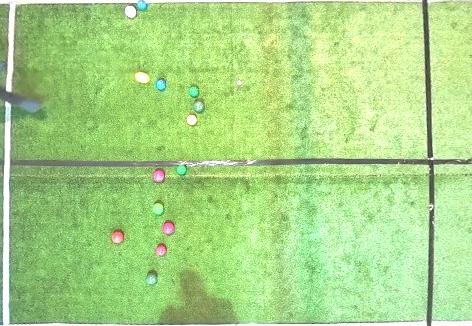blue: (136, 0, 149, 12), (155, 79, 167, 91)
green: (193, 100, 205, 113), (152, 202, 164, 215), (146, 273, 157, 285), (189, 86, 199, 97), (176, 165, 187, 175)
red: (111, 231, 124, 244), (163, 222, 175, 235), (153, 170, 165, 183), (125, 6, 137, 18), (156, 244, 167, 257)
vline: (422, 0, 471, 325), (0, 0, 19, 325)
white: (237, 80, 242, 85)
yellow: (135, 72, 150, 83), (186, 115, 198, 125)
